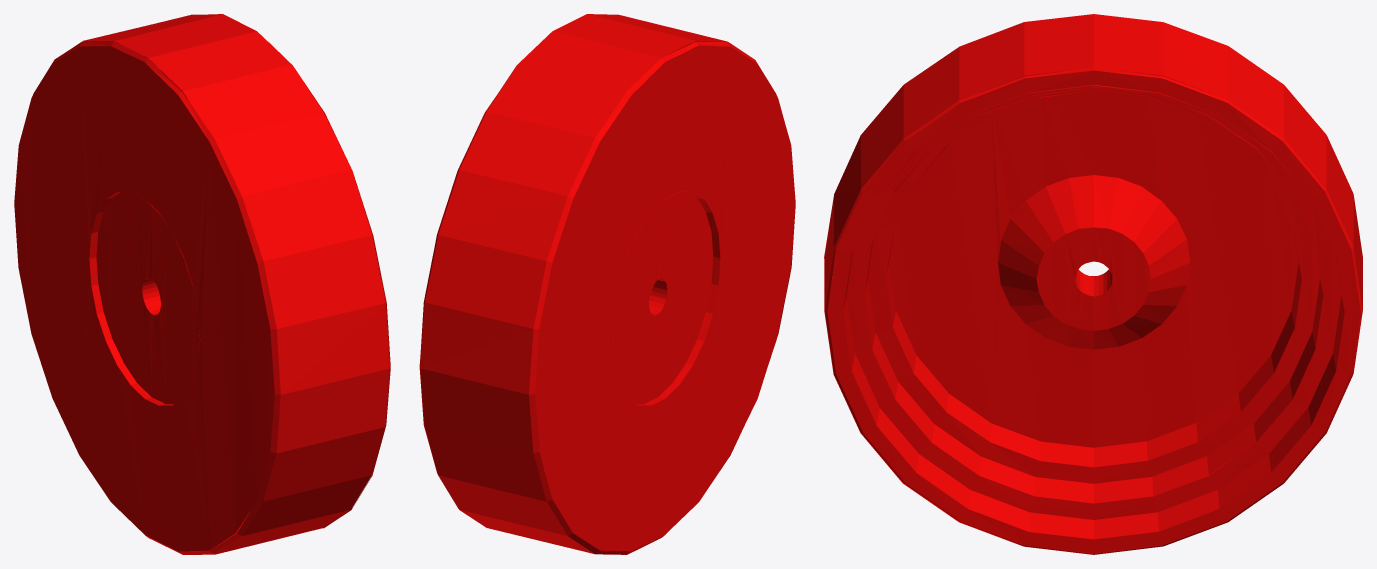
3 renders of one model, left to right at view 1: azimuth 30°, elevation 25°; view 2: azimuth 150°, elevation 25°; view 3: azimuth 270°, elevation 25°, orthographic.
Parts seen in each view (by area): view 1: Renderer Node; view 2: Renderer Node; view 3: Renderer Node.
Boxes of the visible parts, x1,y1,x2,y2 form: Renderer Node: [14, 14, 390, 554]; Renderer Node: [419, 14, 795, 554]; Renderer Node: [824, 14, 1362, 554].
Size of the model in its own units: 0.1754 by 0.6965 by 0.6979.
Materials: 1 (1 with a texture image).
